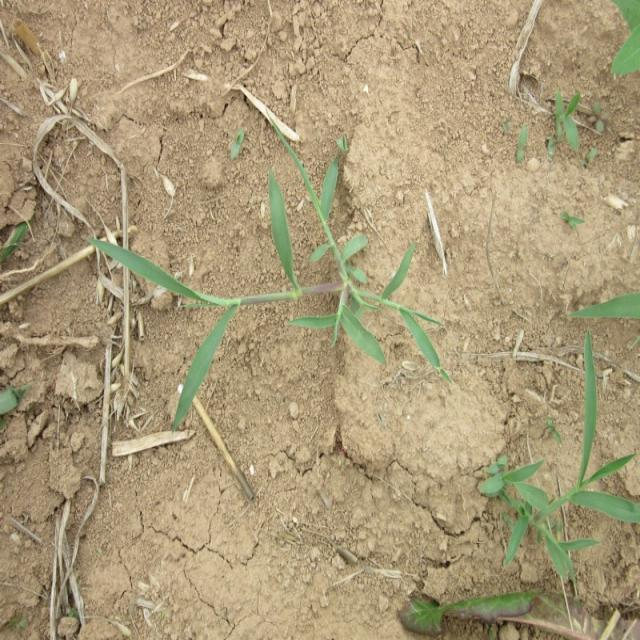bg: (87, 140, 457, 431)
